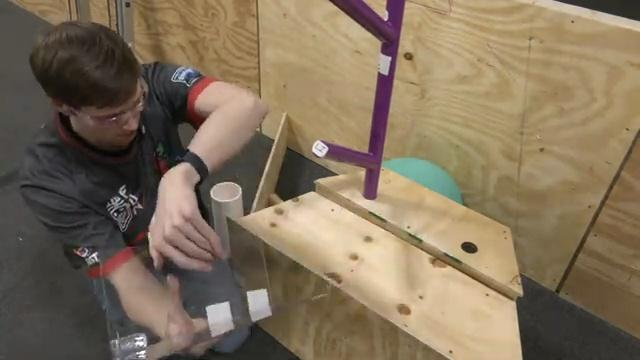CORAL: (209, 182, 244, 261)
